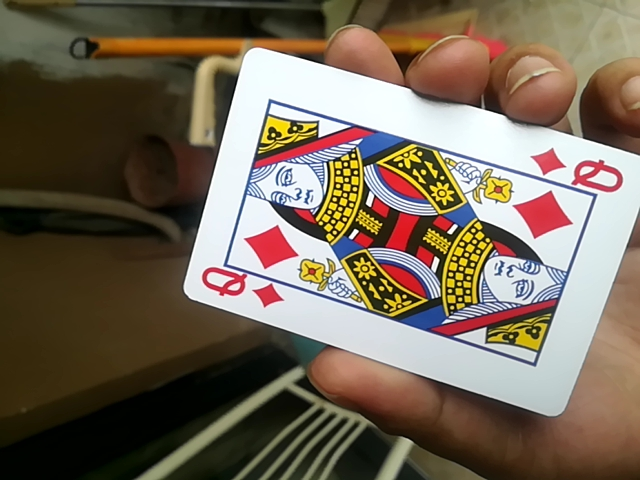fk q: (188, 49, 640, 422)
